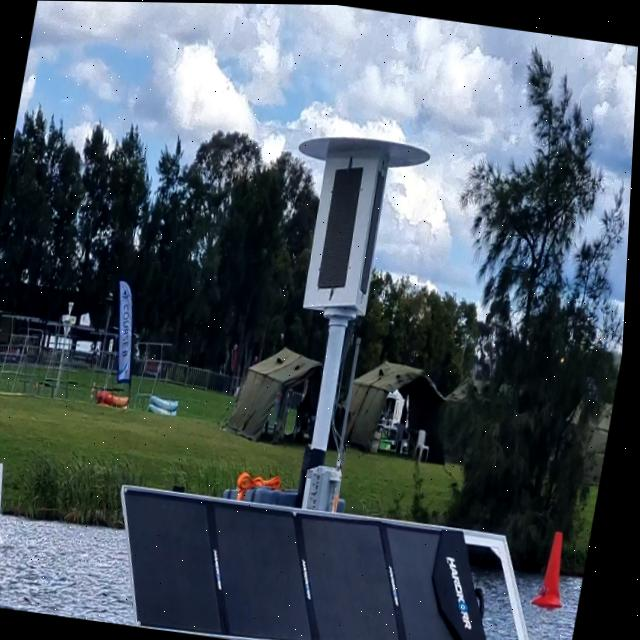led: (308, 154, 377, 298)
